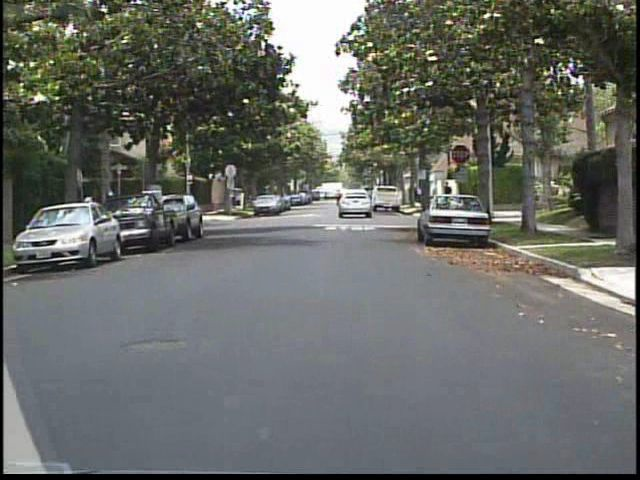person: (83, 188, 104, 242), (439, 177, 456, 213)
